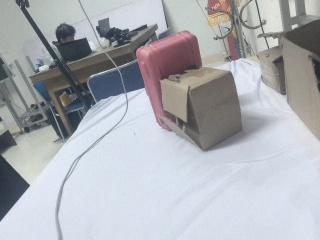box: (161, 68, 241, 150), (257, 45, 286, 95)
